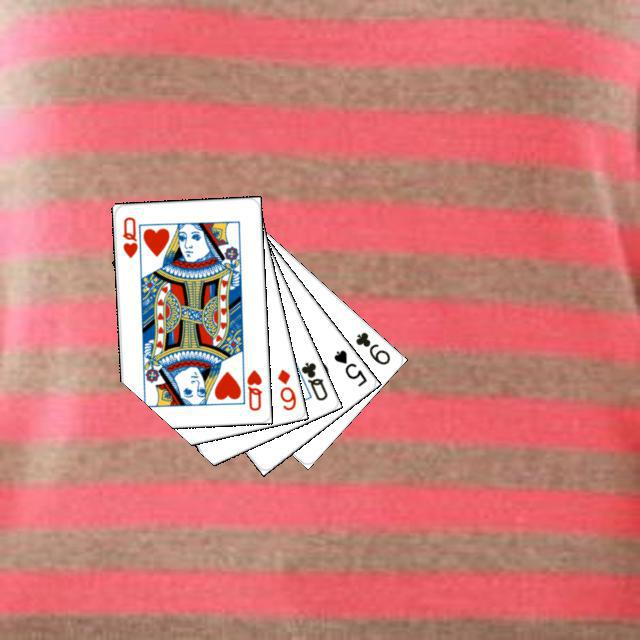5s: (329, 345, 369, 389)
6d: (272, 364, 298, 412)
9c: (351, 327, 392, 367)
Qc: (290, 357, 329, 402)
Qh: (117, 212, 143, 264), (242, 365, 264, 412)
